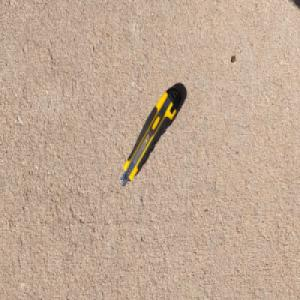Cutter: (119, 84, 182, 188)
